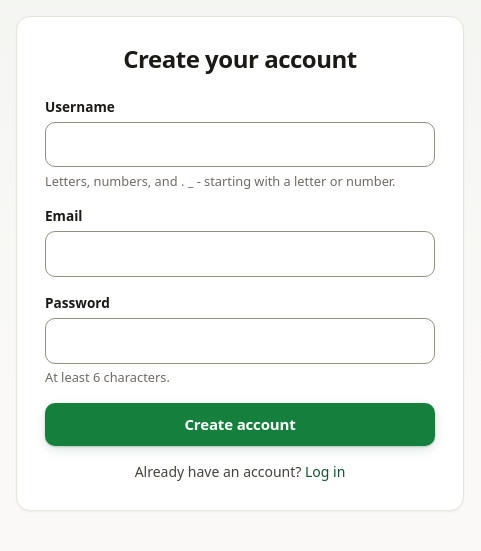
Test: the register form › clears a message as soon as the field is being fixed
Type "ab" into the field labelled "Username" at (240, 145), box x1=45 y1=122 x2=435 y2=167
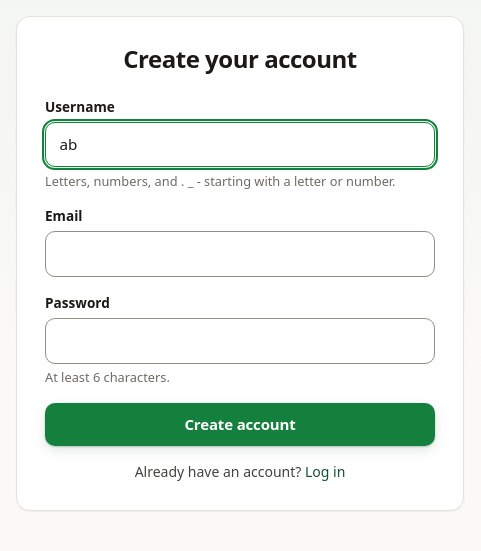
Click the button "Create account" at (240, 424), box x1=45 y1=403 x2=435 y2=446
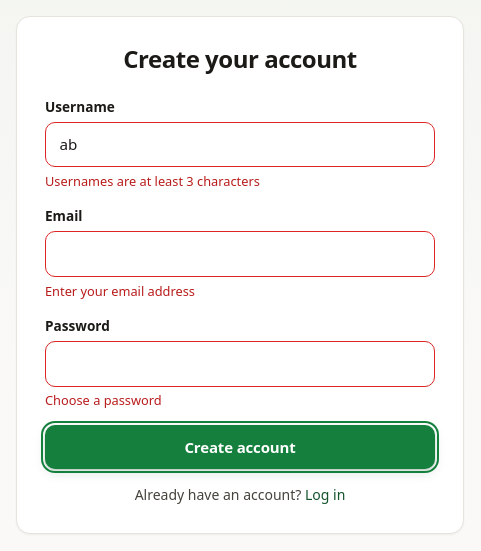
Now the text "Usernames are at least 3 characters" is shown, box x1=45 y1=172 x2=260 y2=190
Type "c" into the field labelled "Username" at (240, 145), box x1=45 y1=122 x2=435 y2=167
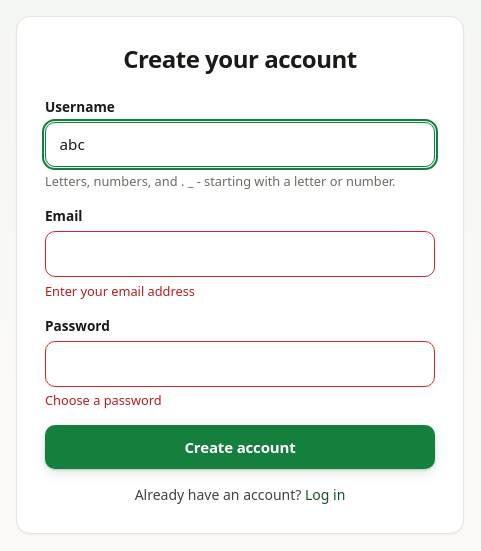
Now the text "at least 3 characters" is gone
